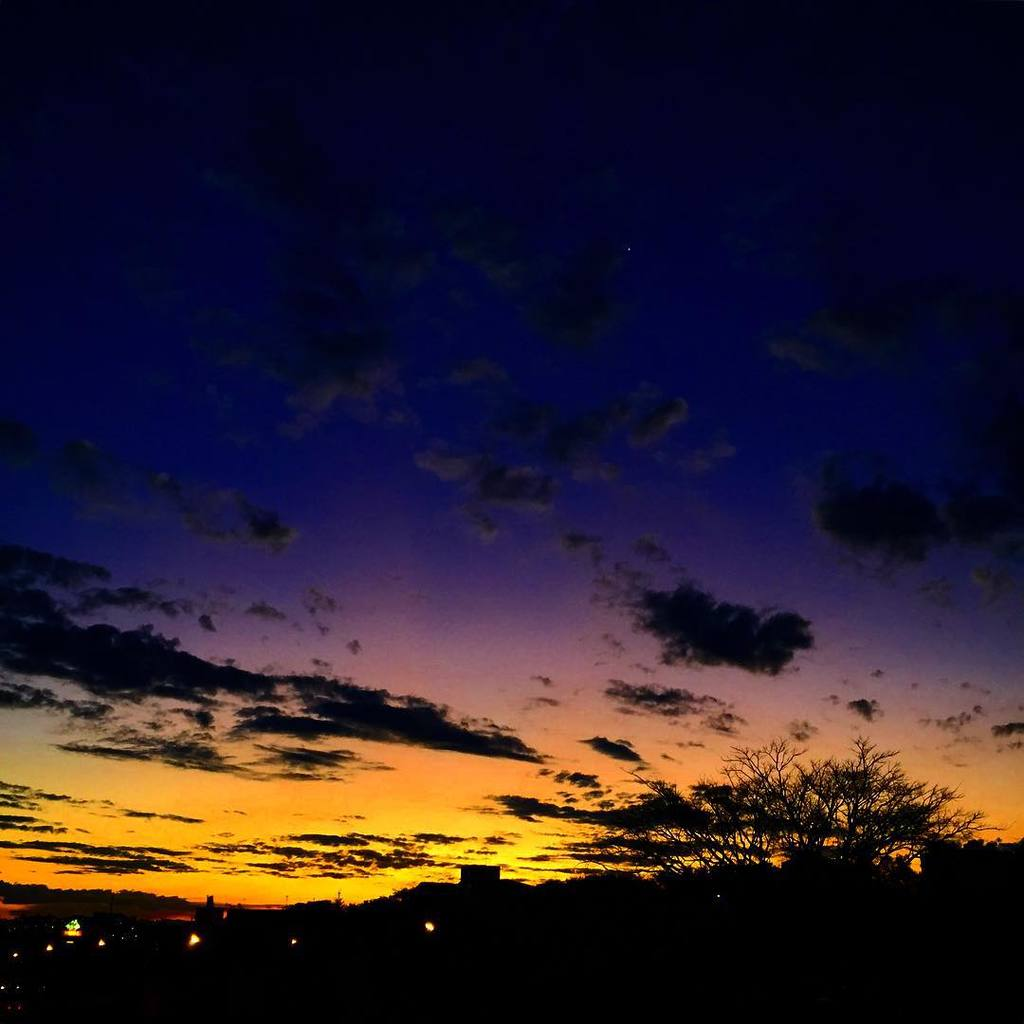Tree: (571, 731, 1004, 903)
